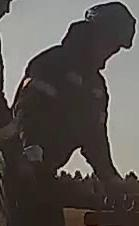vest: (12, 44, 108, 177)
